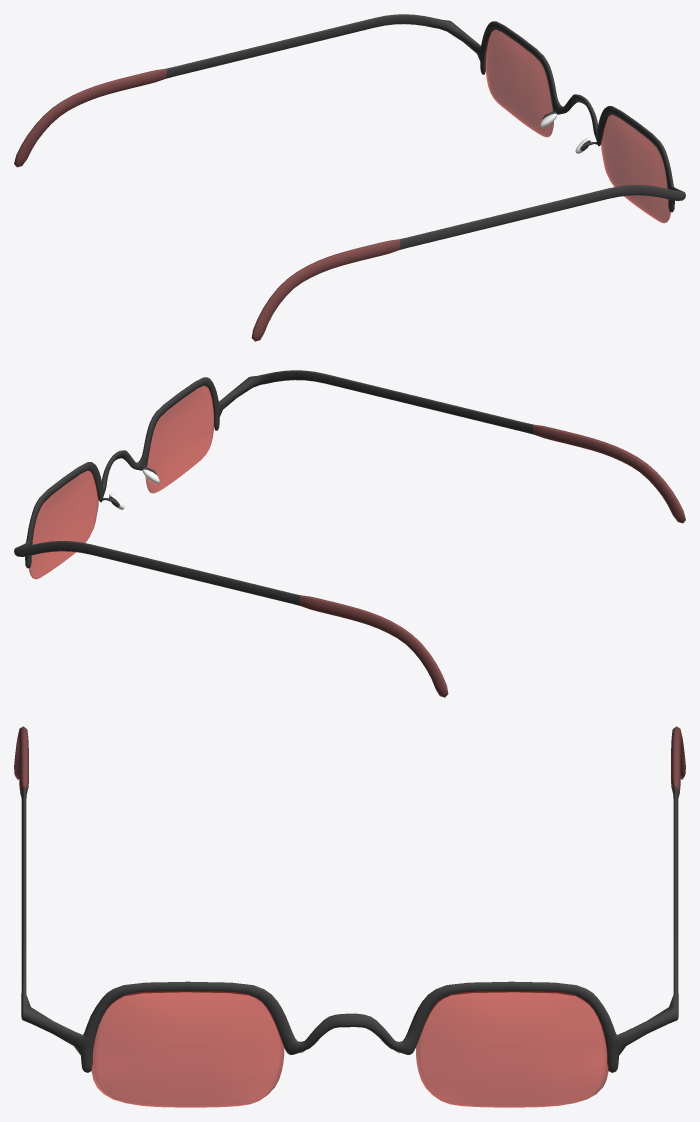
The model's file is GlassesRed.fbx.
3 renders of one model, top to bottom at view 1: azimuth 30°, elevation 25°; view 2: azimuth 150°, elevation 25°; view 3: azimuth 270°, elevation 25°, orthographic. The views are drawn at different scales.
Parts seen in each view (by area): view 1: polySurface5; view 2: polySurface5; view 3: polySurface5.
Part boxes in pixels (x1,y1,x2,y2): polySurface5: (14,14,685,341); polySurface5: (14,370,685,697); polySurface5: (14,726,685,1107).
Size of the model in its own units: 186 by 34.55 by 171.
